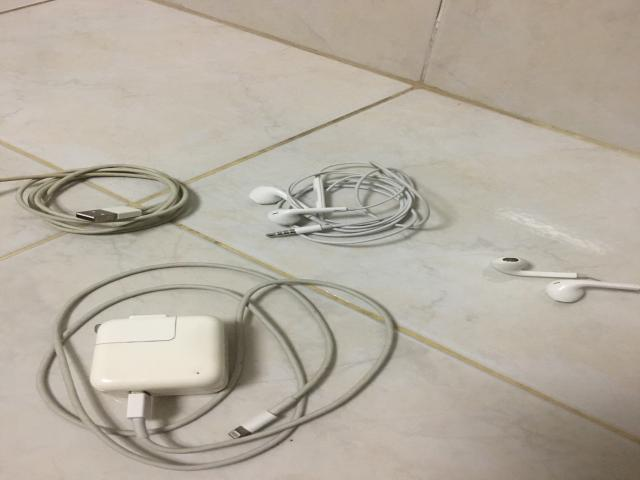wire: (37, 262, 395, 471), (250, 162, 430, 245), (0, 164, 188, 234), (492, 257, 640, 303)
